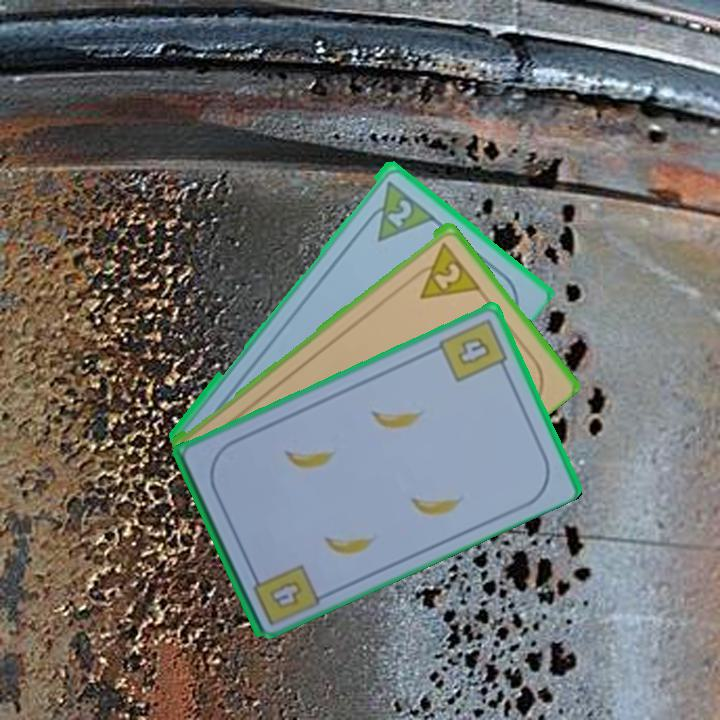2p: (406, 238, 482, 302), (383, 195, 415, 230)
4b: (435, 315, 512, 385), (265, 576, 306, 612)
